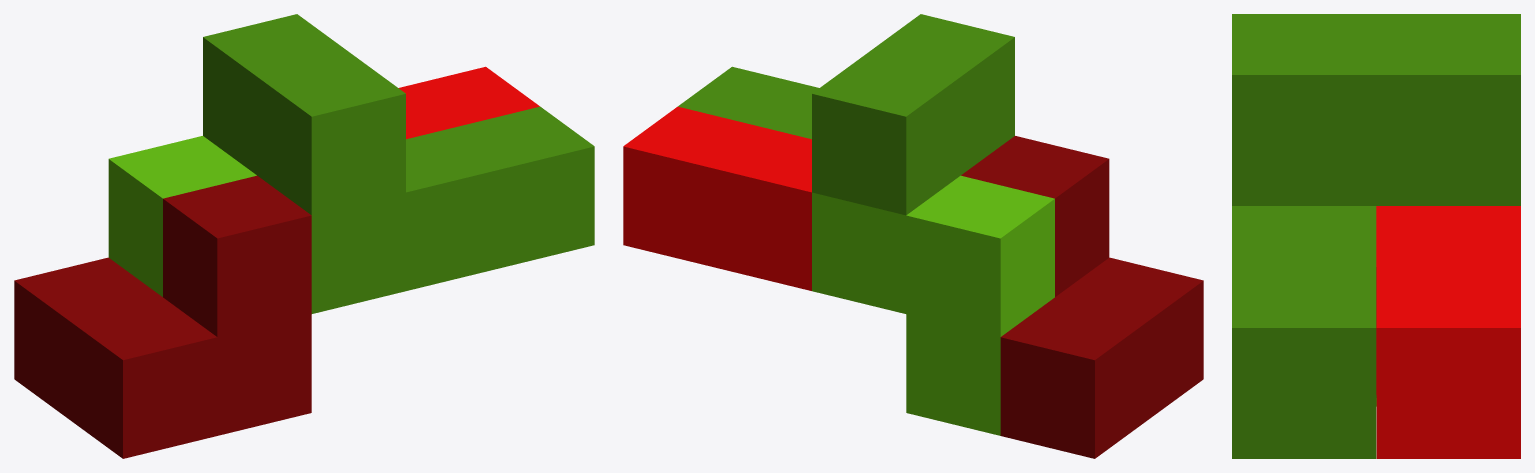
The picture shows the model from 3 angles, left to right: view 1: azimuth 30°, elevation 25°; view 2: azimuth 150°, elevation 25°; view 3: azimuth 270°, elevation 25°; orthographic projection. The views are drawn at different scales.
Visible parts, largest first — view 1: mergedBlocks(Clone); view 2: mergedBlocks(Clone); view 3: mergedBlocks(Clone).
Part boxes in pixels (x1,y1,x2,y2): mergedBlocks(Clone): [14, 14, 594, 458]; mergedBlocks(Clone): [623, 14, 1203, 458]; mergedBlocks(Clone): [1232, 14, 1520, 458].
Size of the model in its own units: 5 by 3 by 2.
4 materials, 4 textured.
